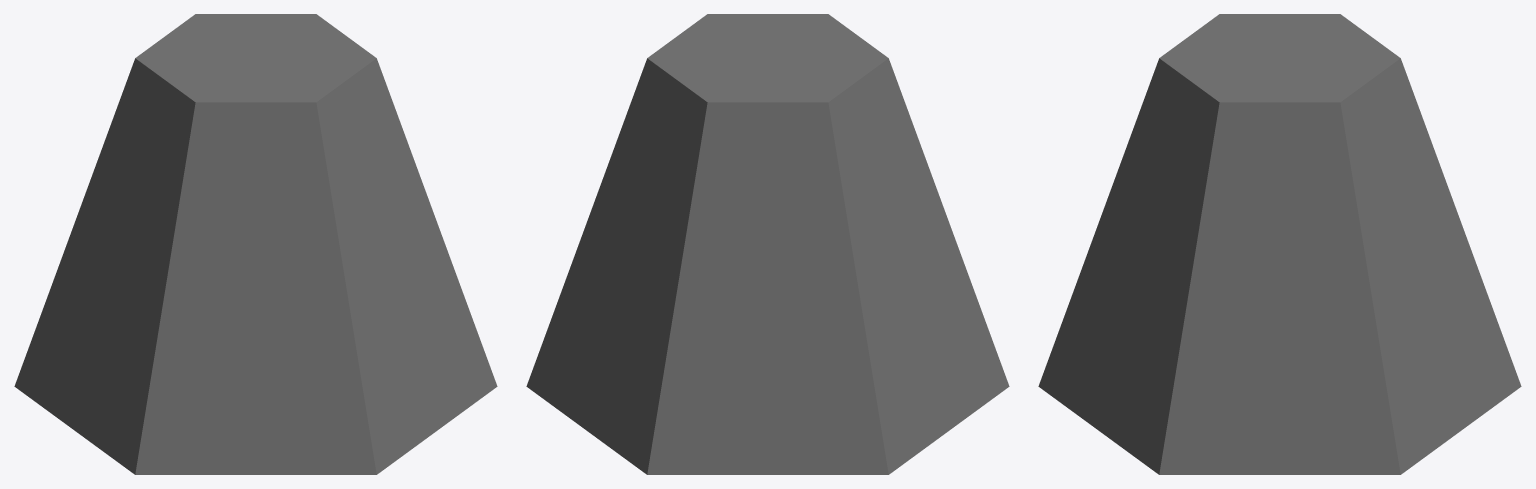
The model's file is prism2-1.obj.
3 views of the same model, side by side, from view 1: azimuth 30°, elevation 25°; view 2: azimuth 150°, elevation 25°; view 3: azimuth 270°, elevation 25° (orthographic).
Parts seen in each view (by area): view 1: 锥体_锥体.001; view 2: 锥体_锥体.001; view 3: 锥体_锥体.001.
Boxes of the visible parts, box(x1,y1,x2,y2) form: 锥体_锥体.001: box(14, 14, 497, 474); 锥体_锥体.001: box(526, 14, 1009, 474); 锥体_锥体.001: box(1038, 14, 1521, 474).
Bounding box in the file's own units: 1.73 × 1.5 × 2.
